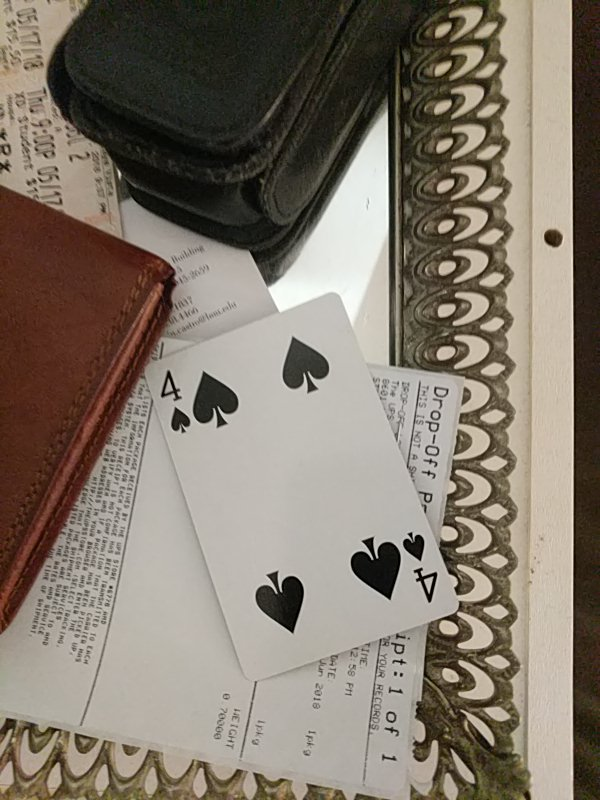Spades: (144, 294, 460, 679)
